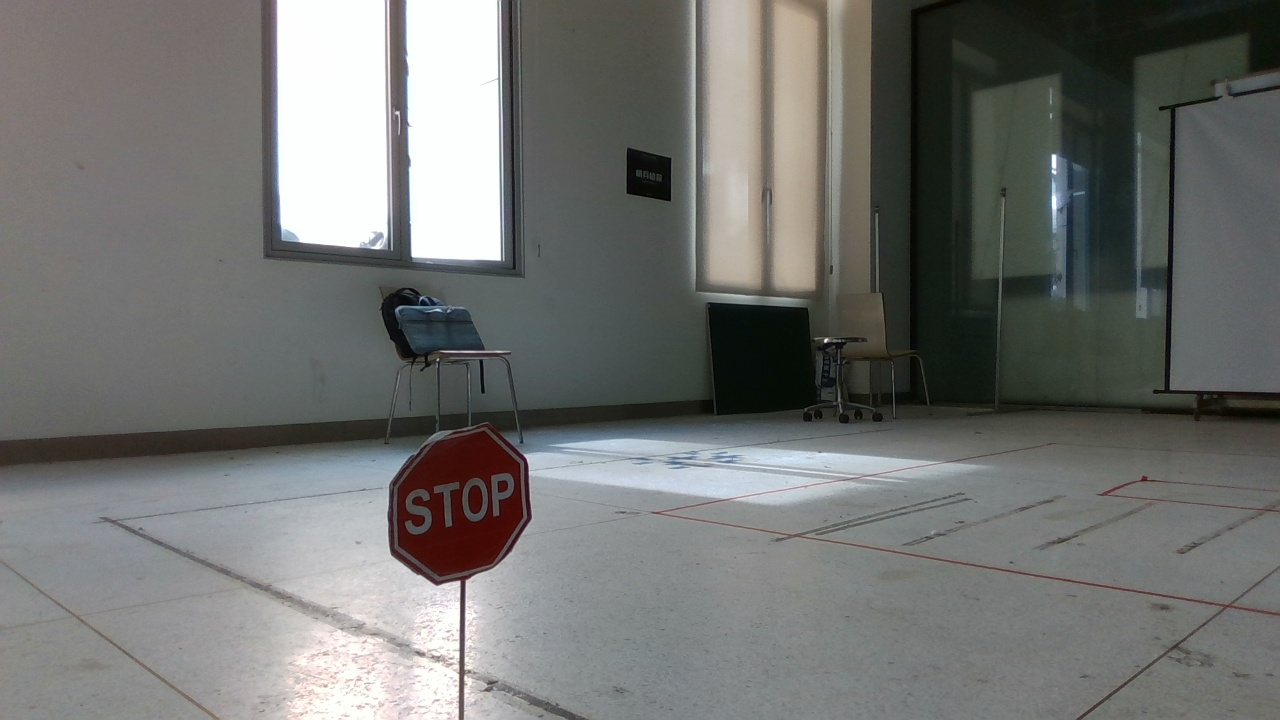stop_sign: (354, 410, 563, 720)
